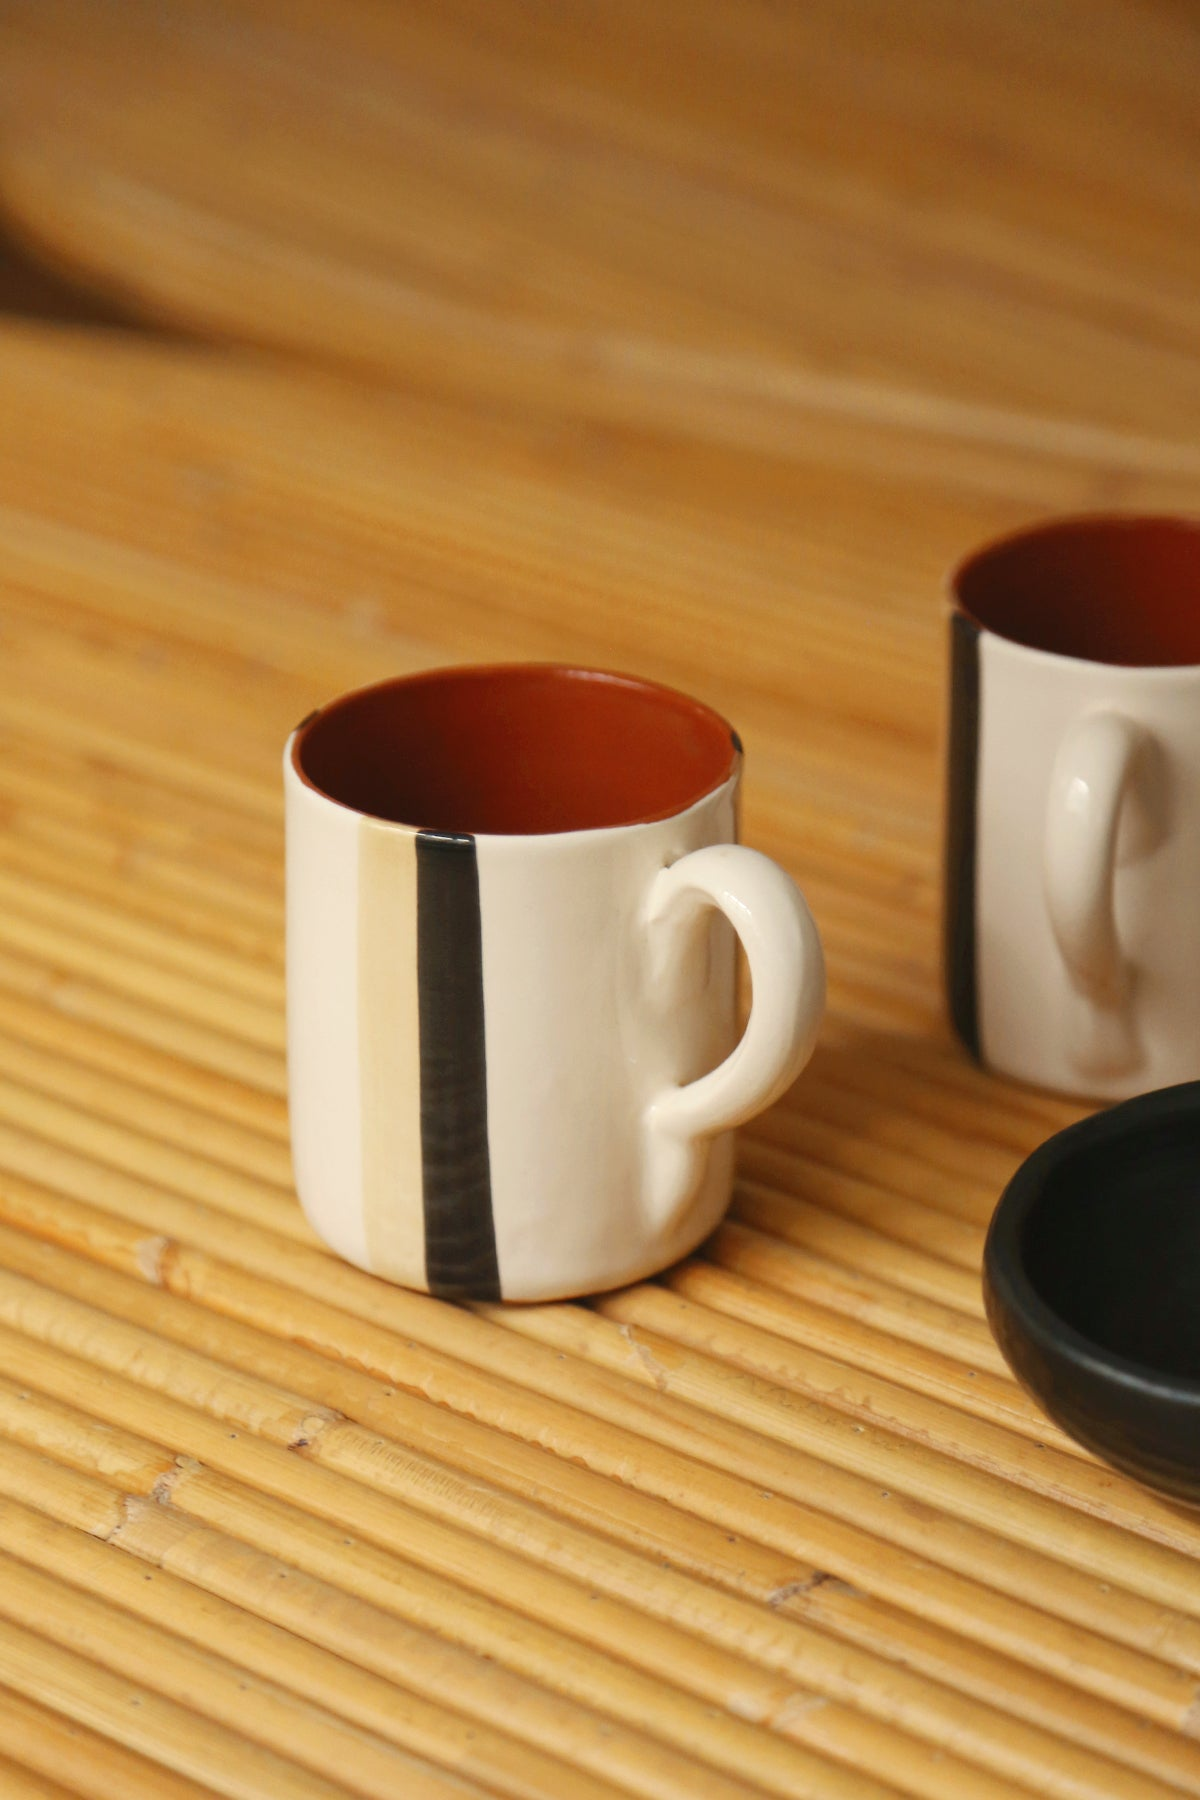cup: (258, 640, 810, 1304), (921, 483, 1200, 1120)
